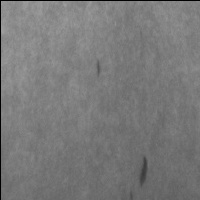inclusion: (126, 153, 151, 200), (90, 55, 105, 81)
